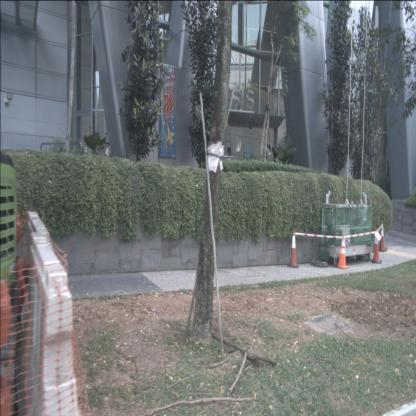barrier: (13, 235, 81, 416), (20, 210, 52, 335)
cone: (287, 226, 299, 269), (337, 232, 349, 270), (371, 226, 382, 264)
